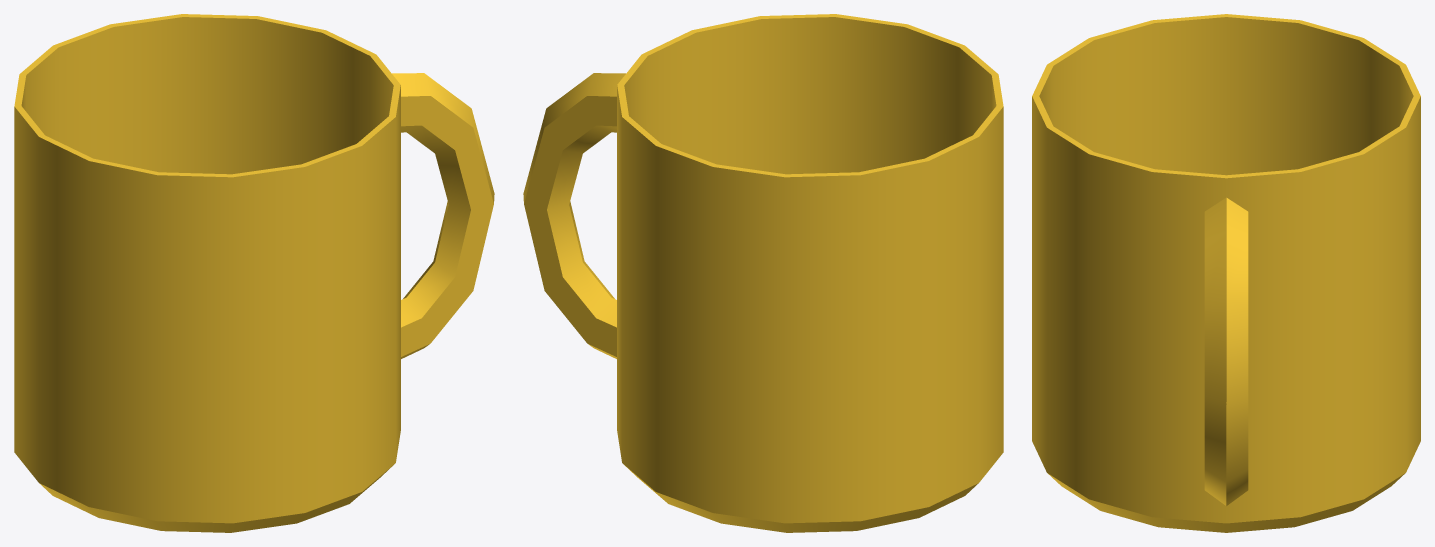
File: Taza05.fbx
3 views of the same model, side by side, from view 1: azimuth 30°, elevation 25°; view 2: azimuth 150°, elevation 25°; view 3: azimuth 270°, elevation 25° (orthographic).
Visible parts, largest first — view 1: Taza05; view 2: Taza05; view 3: Taza05.
Part boxes in pixels (<box>): Taza05: <box>14,14,494,532</box>; Taza05: <box>523,14,1003,532</box>; Taza05: <box>1032,14,1420,532</box>.
Bounding box in the file's own units: 10.46 × 7.95 × 7.75.
